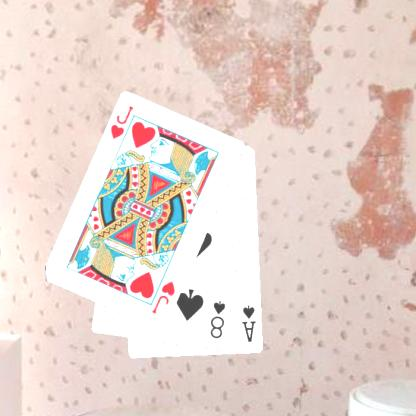8S: (207, 298, 227, 340)
AS: (239, 303, 258, 344)
JH: (149, 278, 177, 316), (107, 103, 135, 141)
